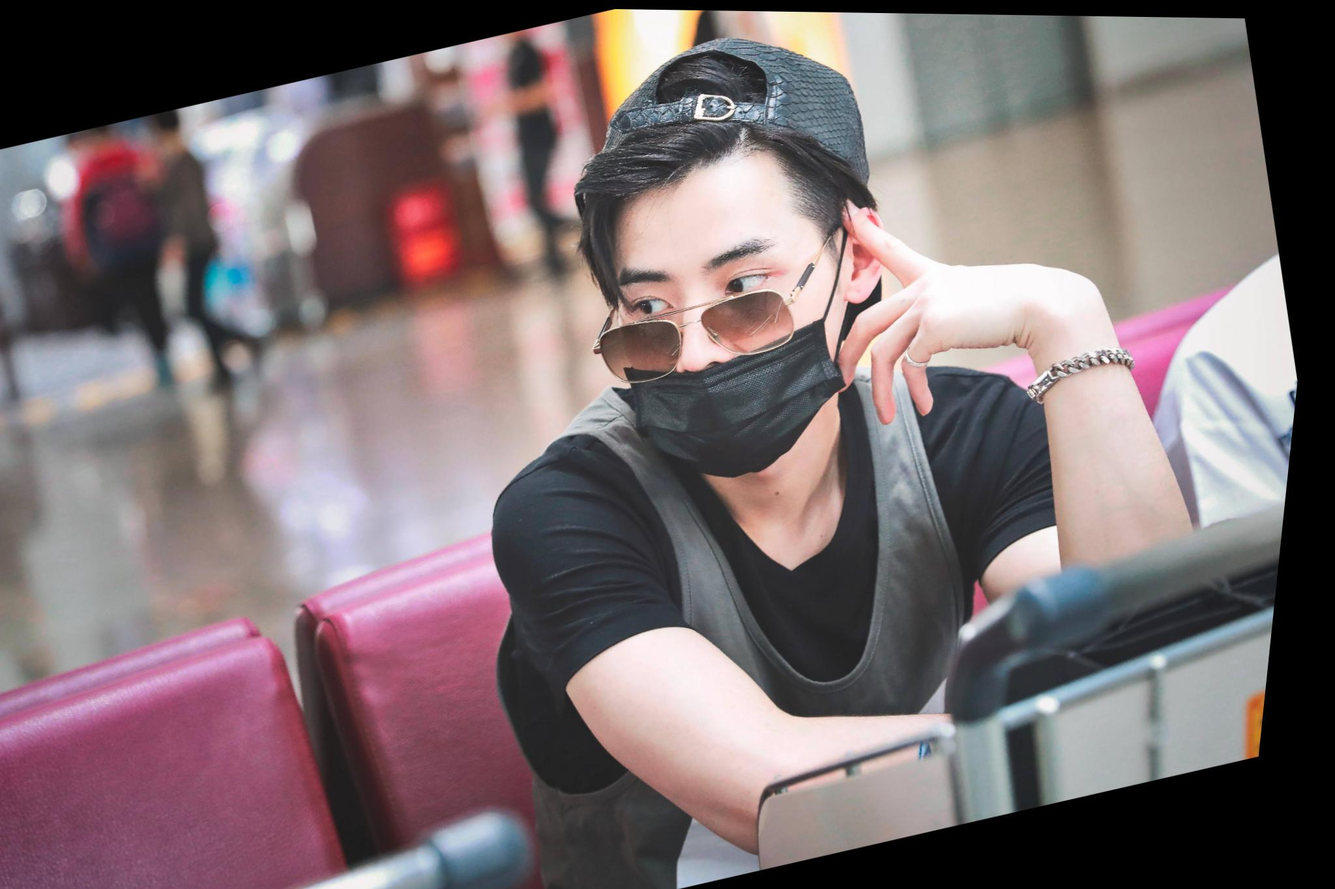WRONG: (587, 179, 888, 494)
